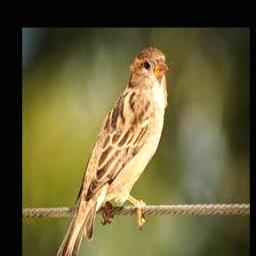Sparrow: (53, 46, 168, 256)
